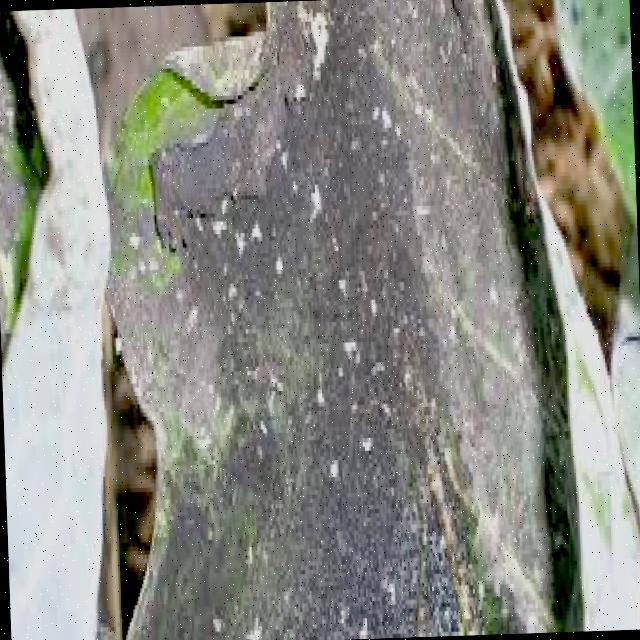whitefly: (110, 0, 512, 640)
